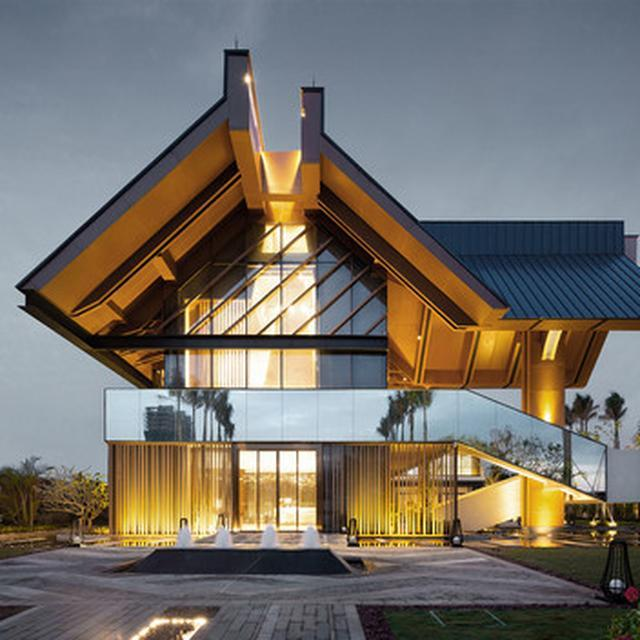building: (16, 40, 640, 534)
